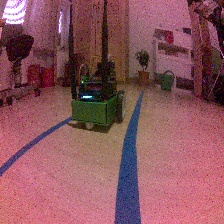rob: (70, 61, 127, 129)
